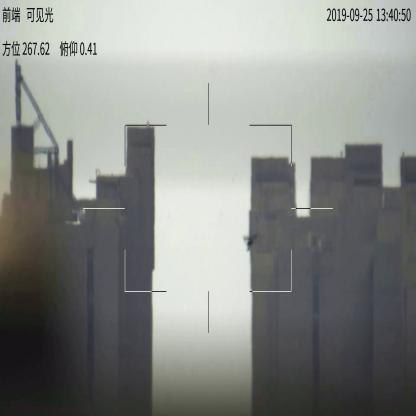uav: (238, 231, 259, 253)
